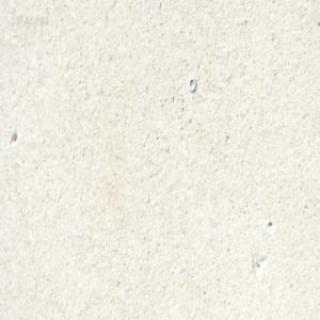Washertrack_idkeyframe: (188, 75, 195, 91)
